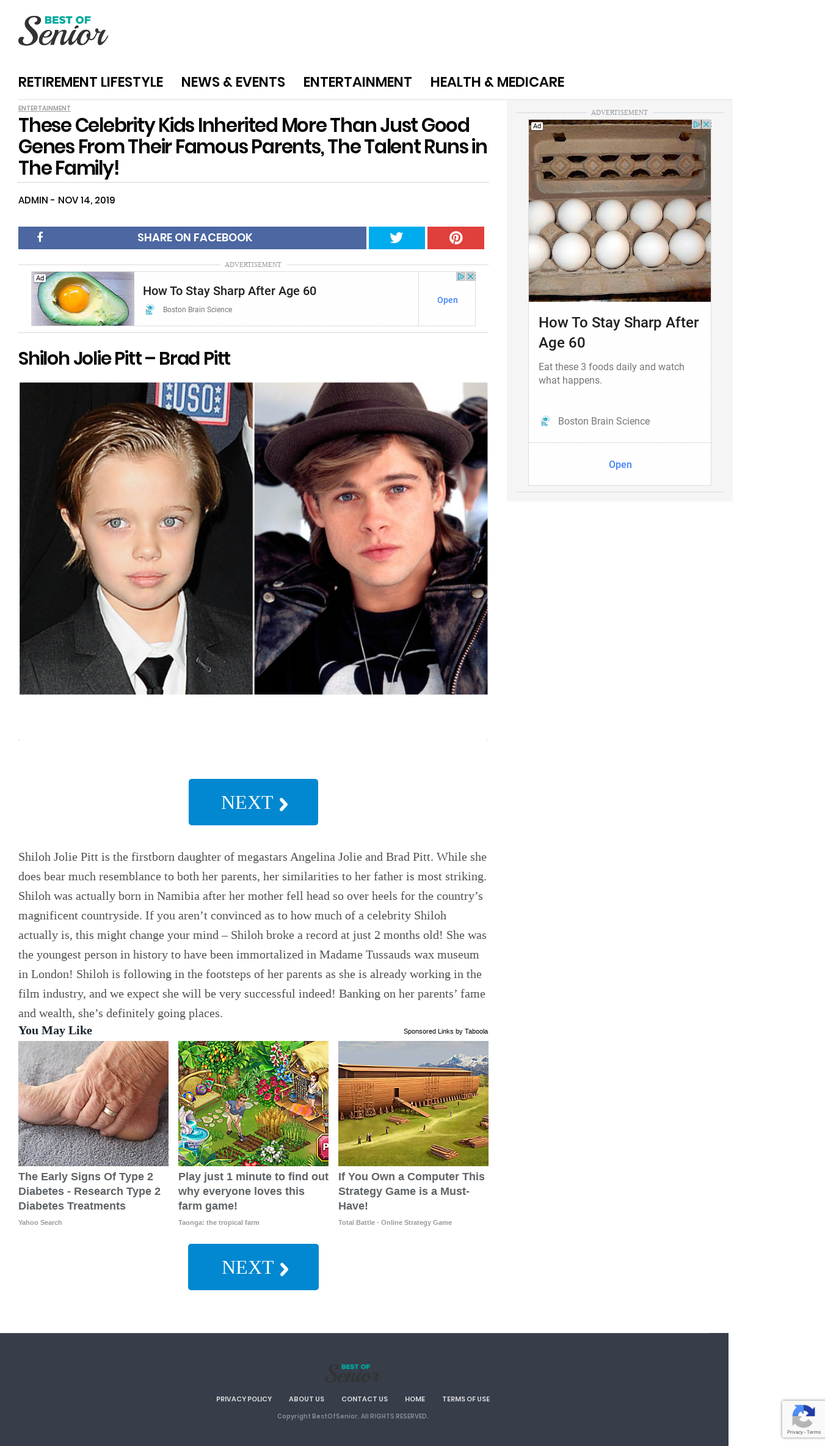fake_button: (173, 755, 334, 843), (161, 1238, 330, 1313)
